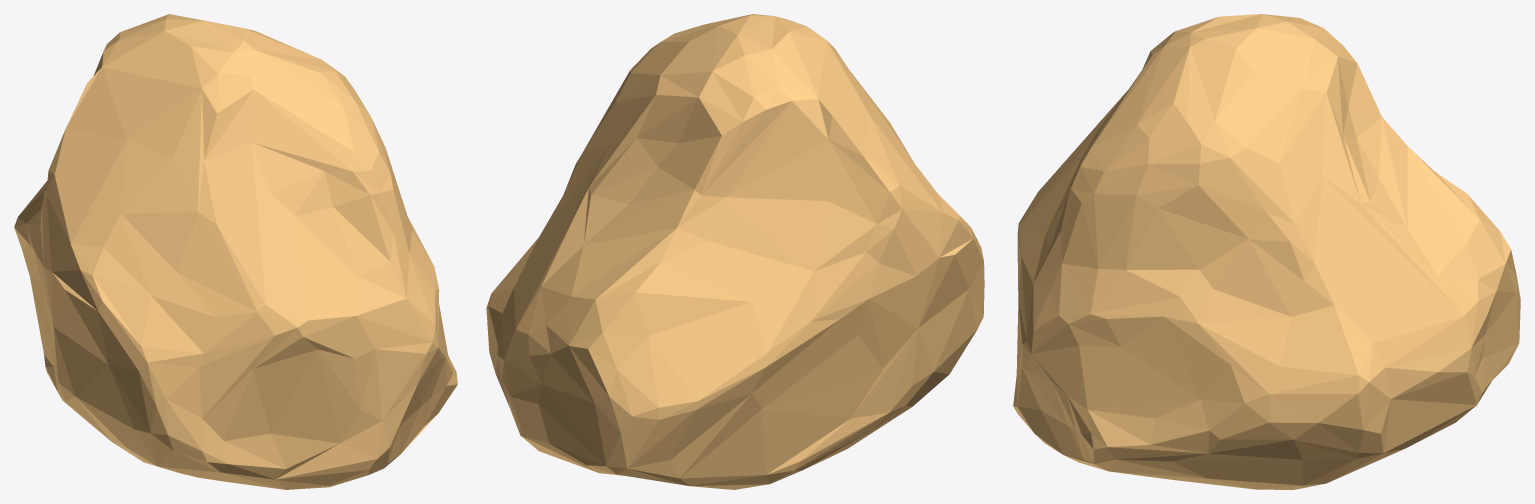
File: Rock 06.FBX
3 renders of one model, left to right at view 1: azimuth 30°, elevation 25°; view 2: azimuth 150°, elevation 25°; view 3: azimuth 270°, elevation 25°, orthographic. The views are drawn at different scales.
Visible parts, largest first — view 1: cube; view 2: cube; view 3: cube.
Part boxes in pixels (box(x1,y1,x2,y2)): cube: box(14, 14, 457, 489); cube: box(486, 14, 984, 489); cube: box(1013, 14, 1520, 489).
Bounding box in the file's own units: 63.38 × 64.98 × 75.13.
